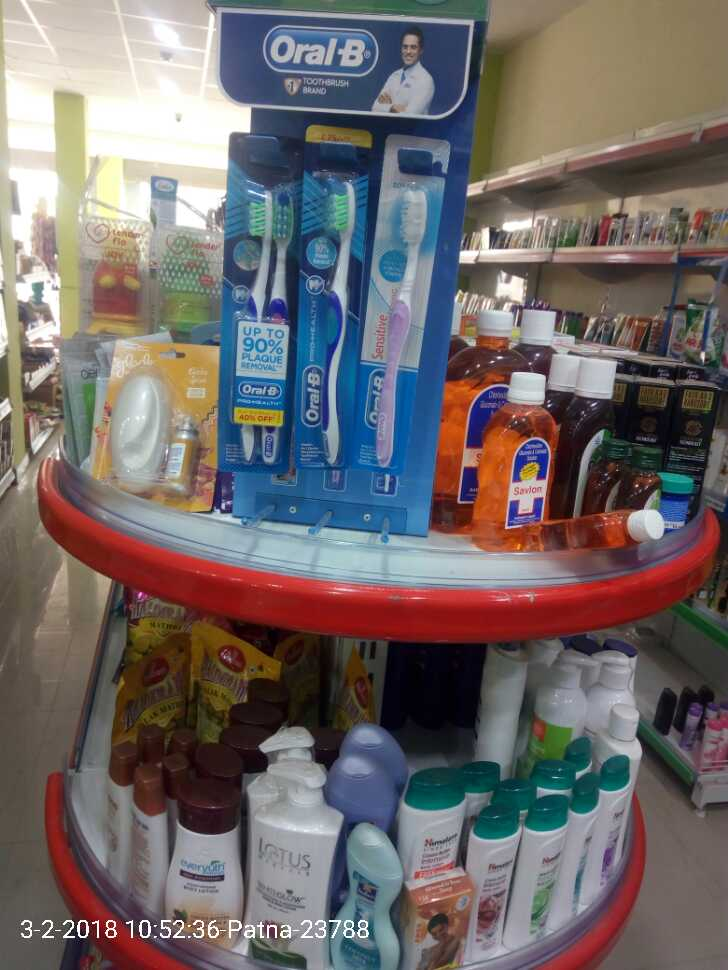oralb: (360, 182, 437, 483), (214, 184, 294, 466), (301, 174, 352, 470)
